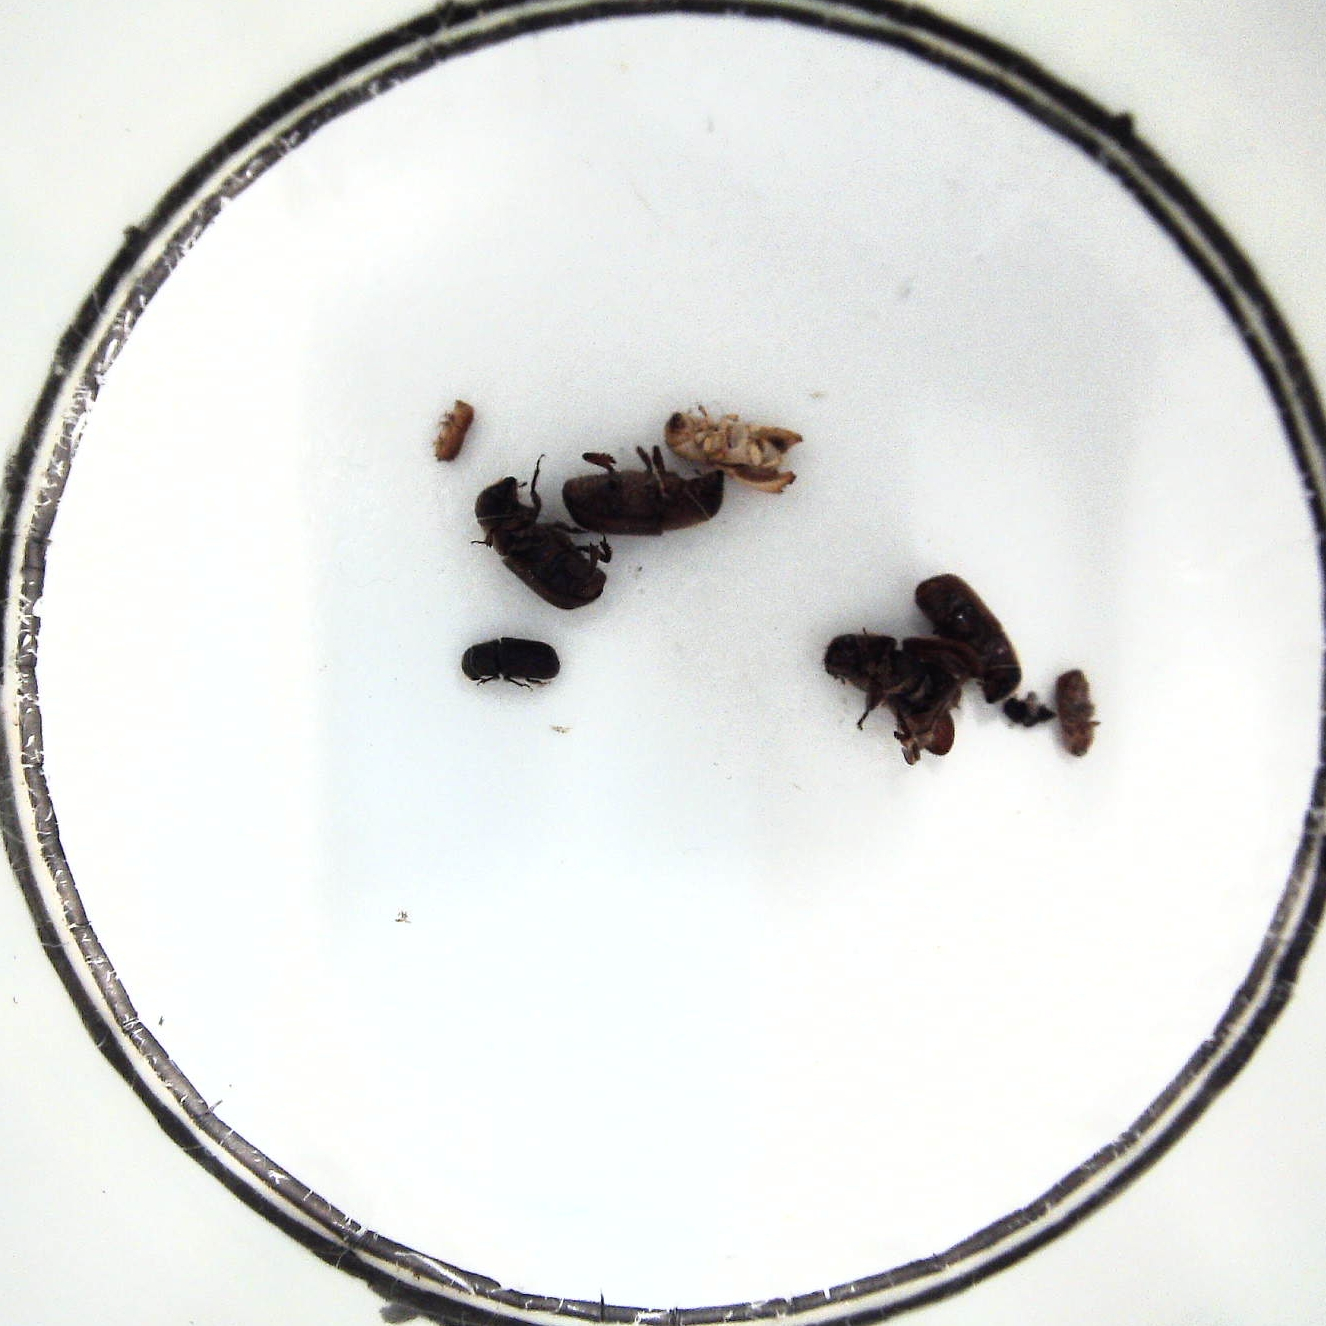Boerner: (665, 406, 807, 494)
Leconte: (822, 627, 974, 763), (474, 469, 612, 608), (917, 571, 1022, 699), (563, 454, 730, 533)
Linnaeus: (1058, 667, 1103, 763)
acuminatus: (433, 395, 474, 464)
armandi: (463, 633, 563, 695)
coleoptera: (1001, 695, 1055, 738)
